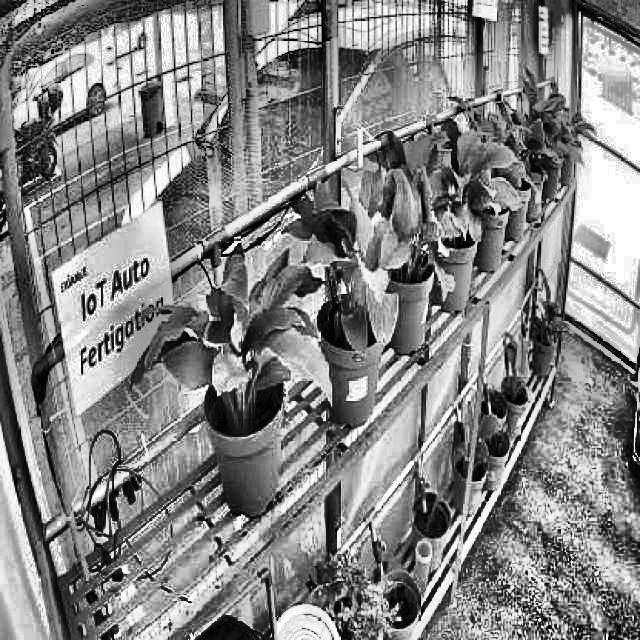plants: (130, 242, 332, 426), (294, 185, 402, 366), (356, 135, 458, 314), (430, 114, 526, 252)
